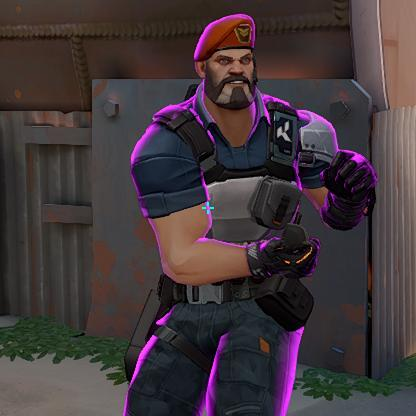enemyBody: (193, 122, 275, 333)
enemyHead: (206, 32, 254, 103)
